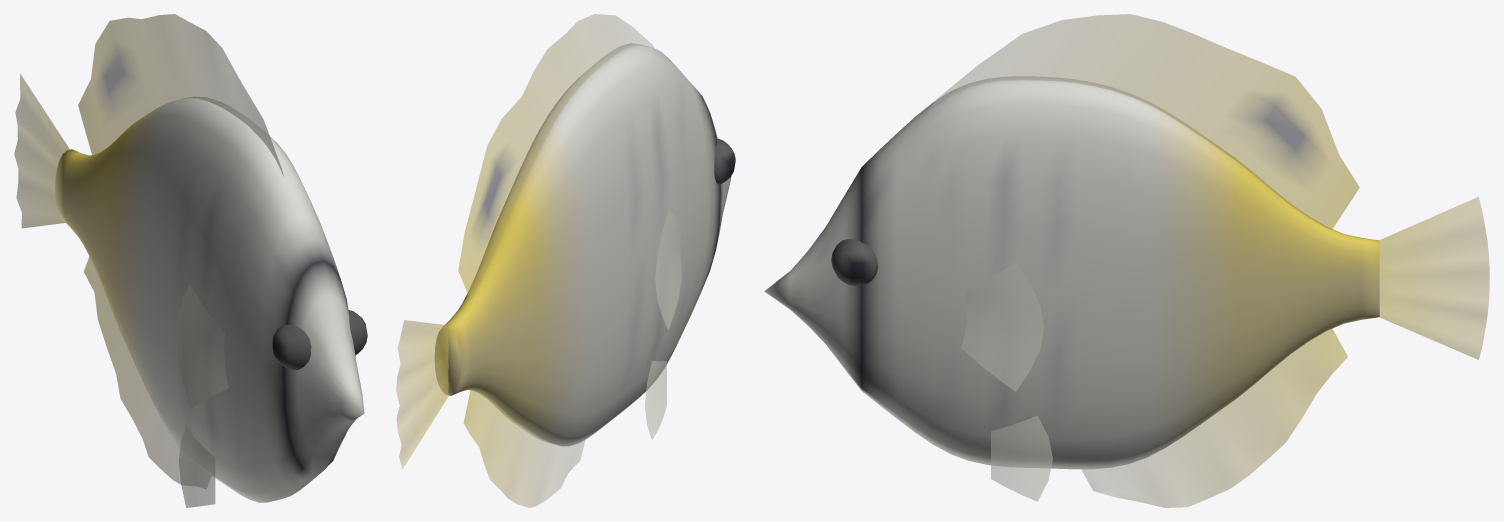
Rendered from fish_butterfly.glb.
3 views of the same model, side by side, from view 1: azimuth 30°, elevation 25°; view 2: azimuth 150°, elevation 25°; view 3: azimuth 270°, elevation 25° (orthographic). The views are drawn at different scales.
Parts seen in each view (by area): view 1: FishButterfly; view 2: FishButterfly; view 3: FishButterfly.
Boxes of the visible parts, x1=… form: FishButterfly: x1=14, y1=14, x2=367, y2=507; FishButterfly: x1=396, y1=14, x2=735, y2=507; FishButterfly: x1=764, y1=14, x2=1489, y2=507.
Bounding box in the file's own units: 0.032 × 0.134 × 0.1788.
